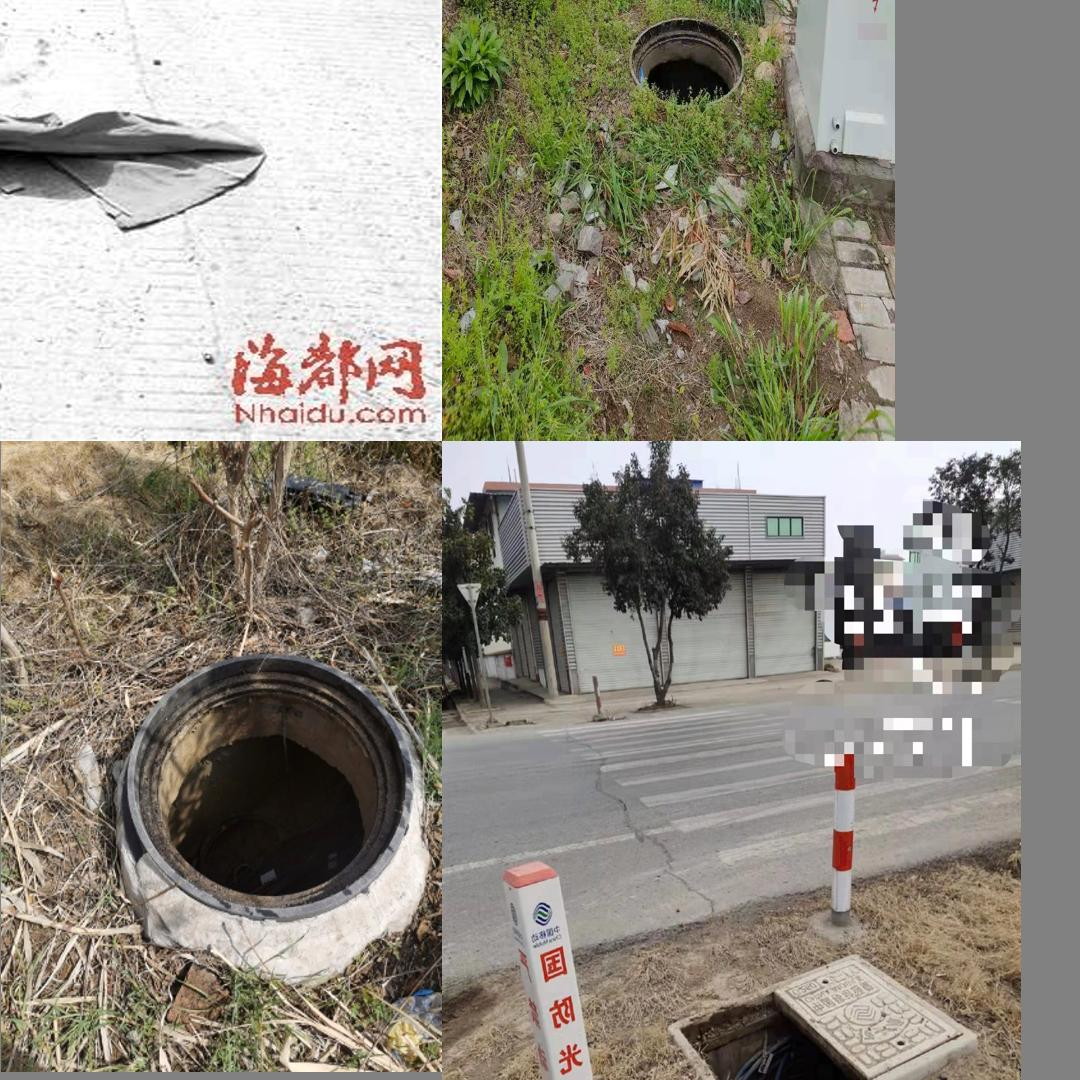lose: (126, 651, 415, 920), (653, 945, 982, 1080), (619, 0, 752, 127)
